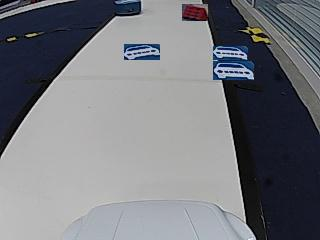prop: (115, 0, 141, 16)
